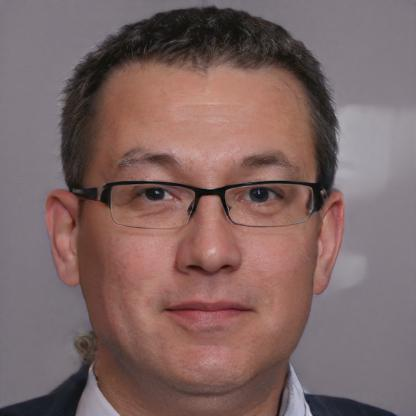glasses: (96, 172, 316, 234)
